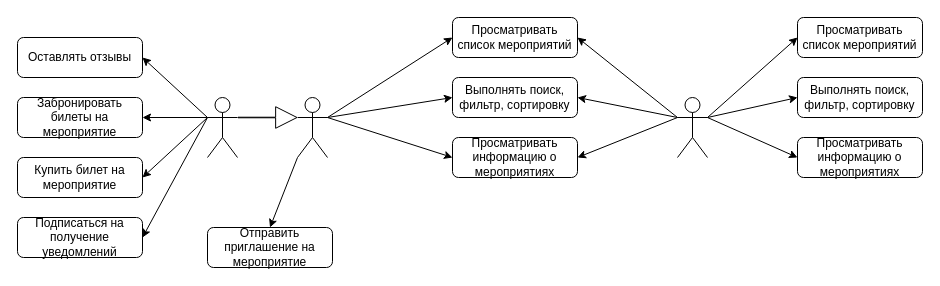
The diagram is 940 pixels wide and 286 high, and some of its shapes have lost their labels. The shapes that lost their labels are listed below. From the top down, each one's centre as x and y in pixels, then its label:
At point 222,127: "User".
At point 312,127: "Guest".
At point 692,127: "Admin".
